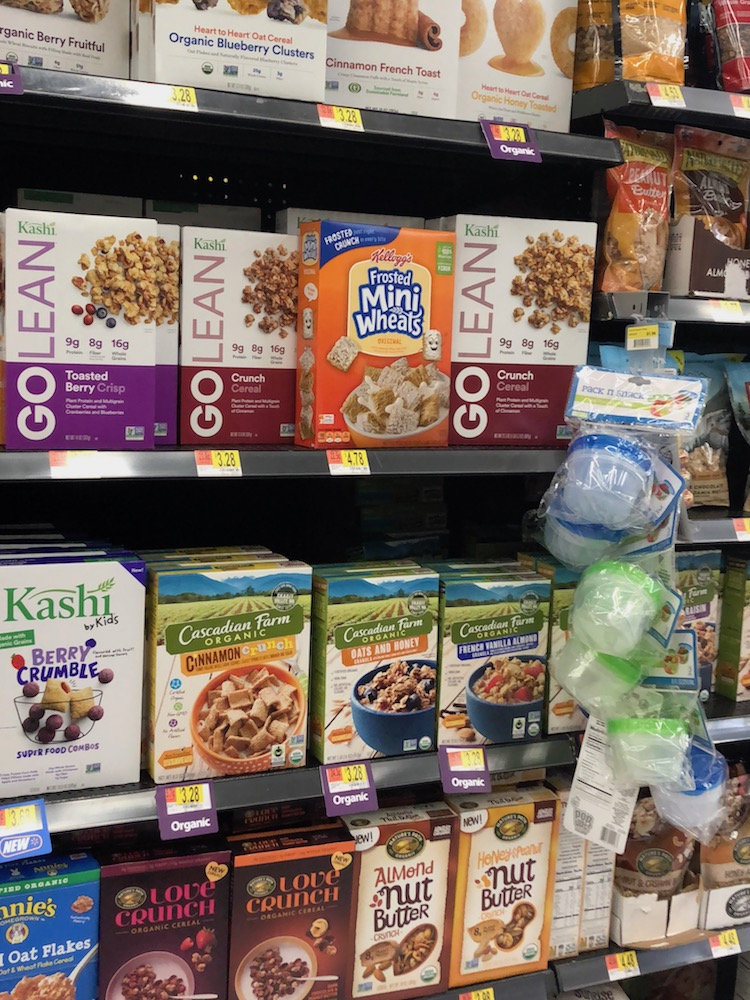Frosted Mini Original -9295869: (302, 222, 447, 443)
